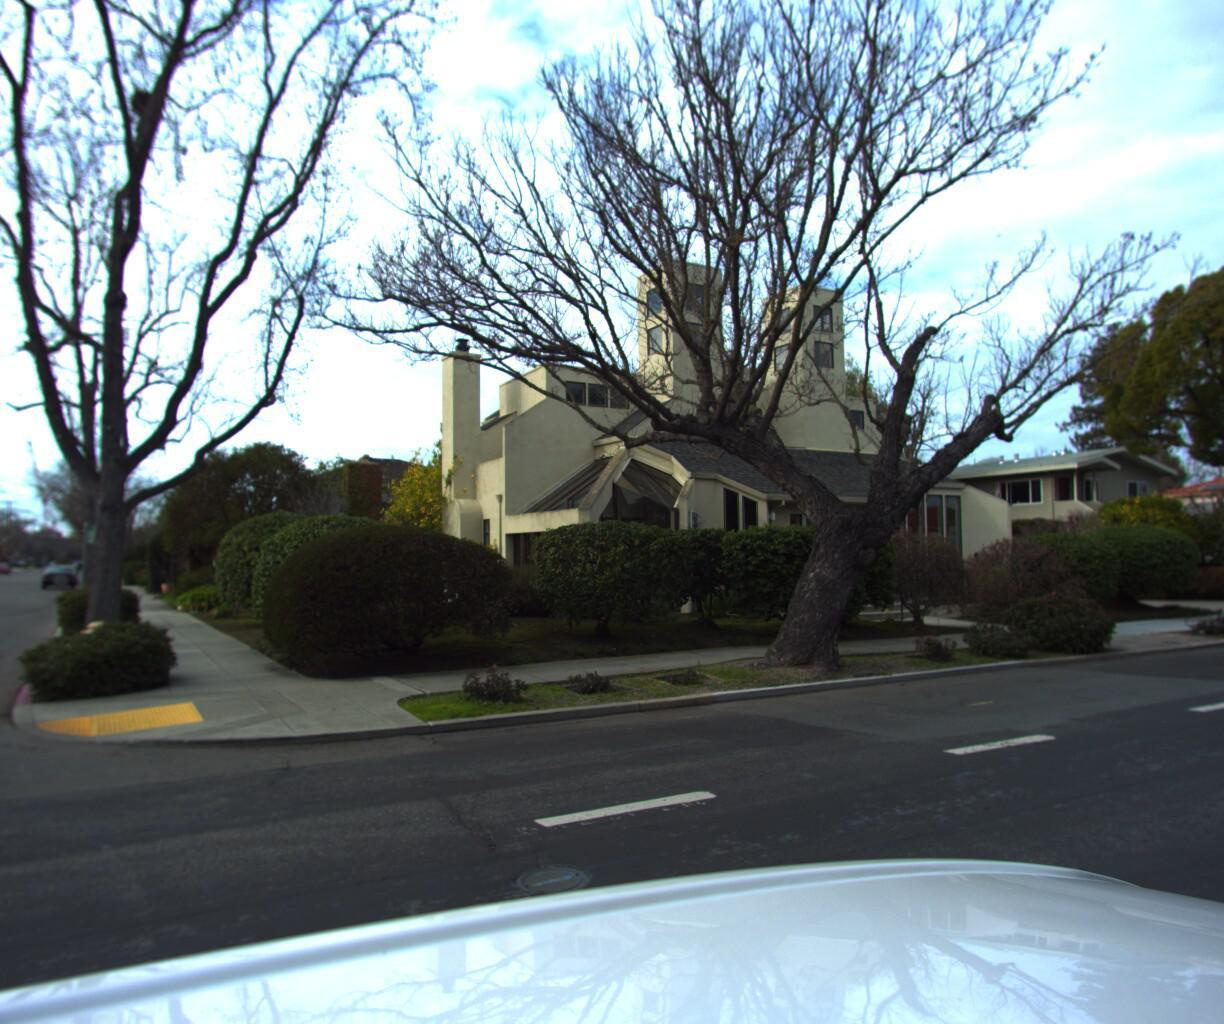car: (42, 562, 82, 588)
